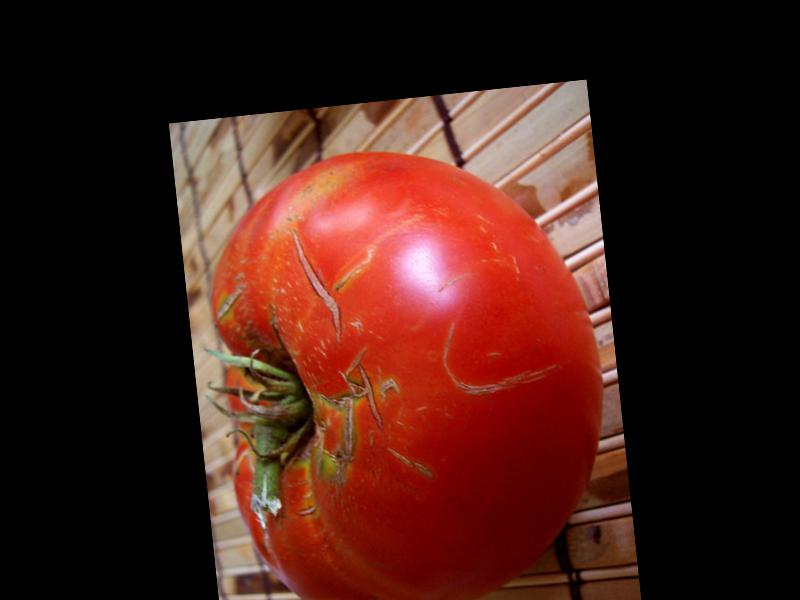Tomato: (196, 131, 618, 600)
